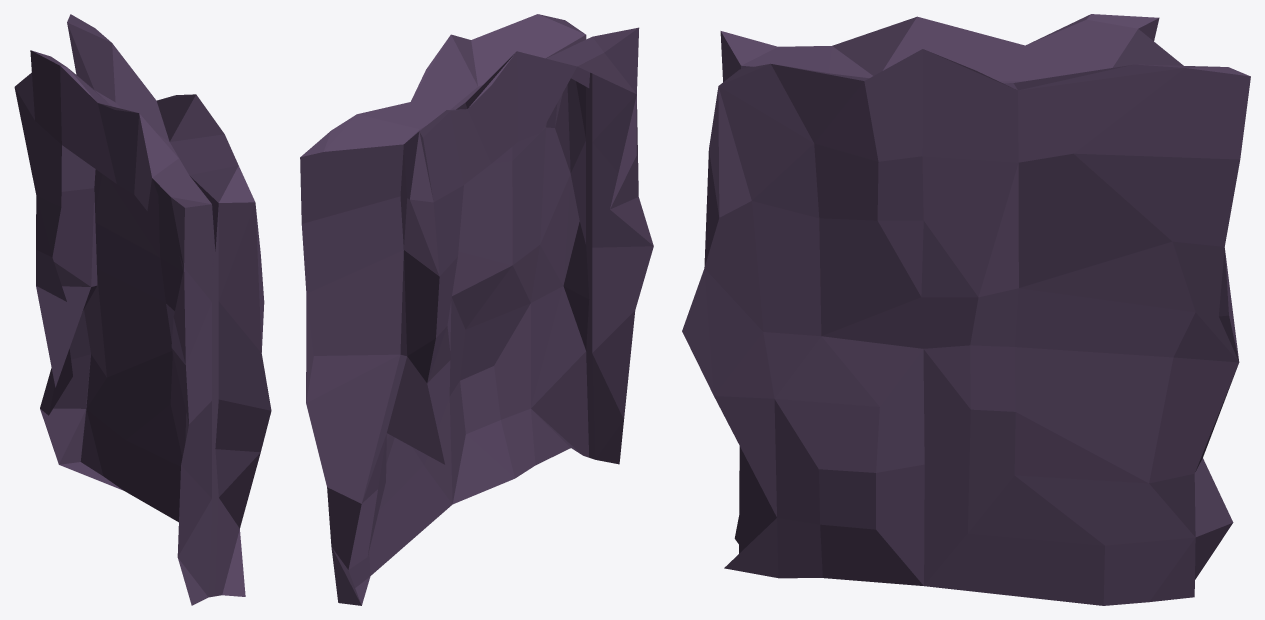
The model's file is wall2_2.fbx.
3 renders of one model, left to right at view 1: azimuth 30°, elevation 25°; view 2: azimuth 150°, elevation 25°; view 3: azimuth 270°, elevation 25°, orthographic. The views are drawn at different scales.
Parts seen in each view (by area): view 1: Cube.1146; view 2: Cube.1146; view 3: Cube.1146.
Part boxes in pixels (x1,y1,x2,y2): Cube.1146: (14,14,271,605); Cube.1146: (300,14,653,605); Cube.1146: (682,14,1250,605).
Bounding box in the file's own units: 452 × 1722 × 1596.
